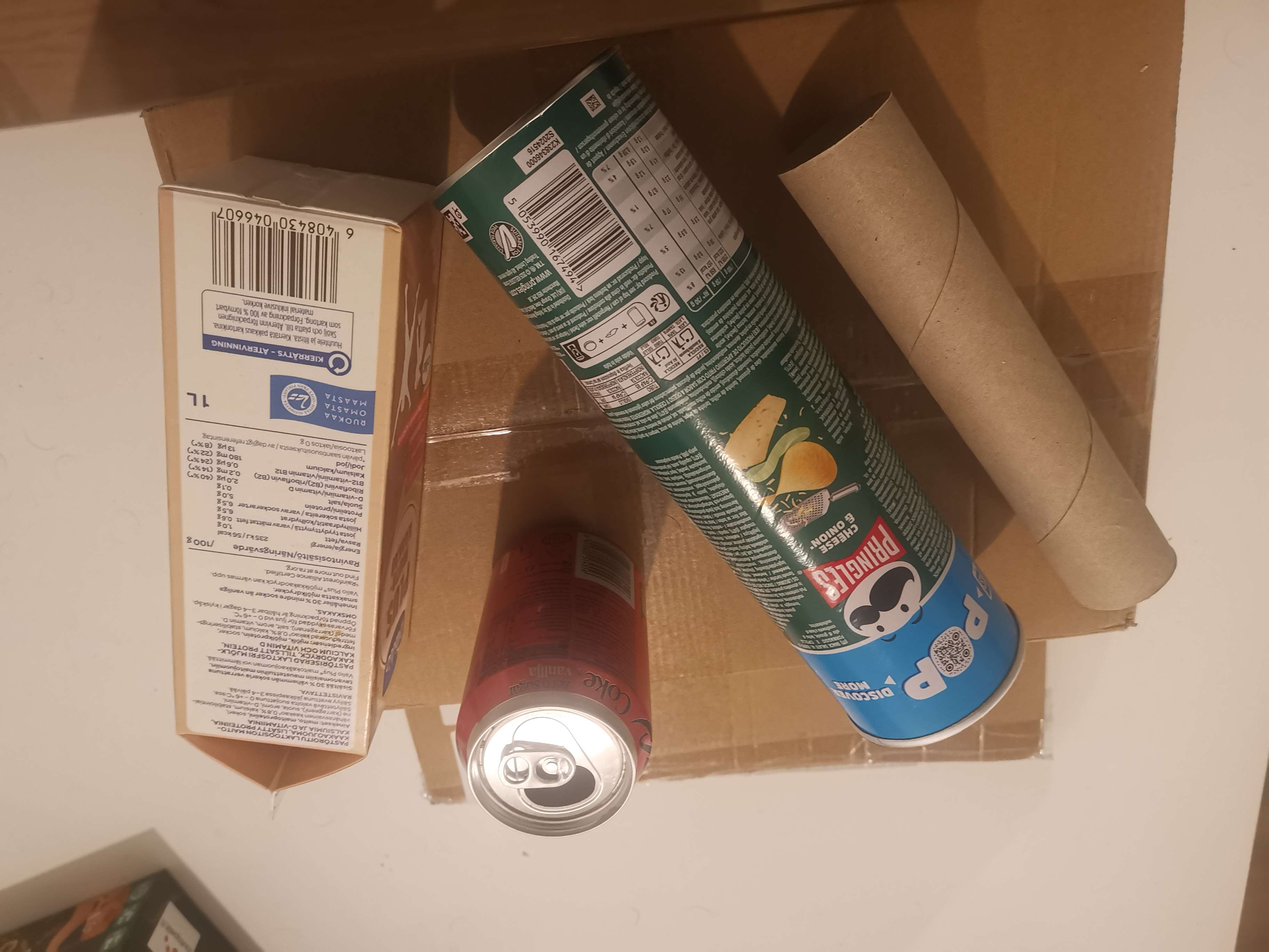Dryckeskartong: (156, 154, 442, 791), (452, 532, 655, 837)
